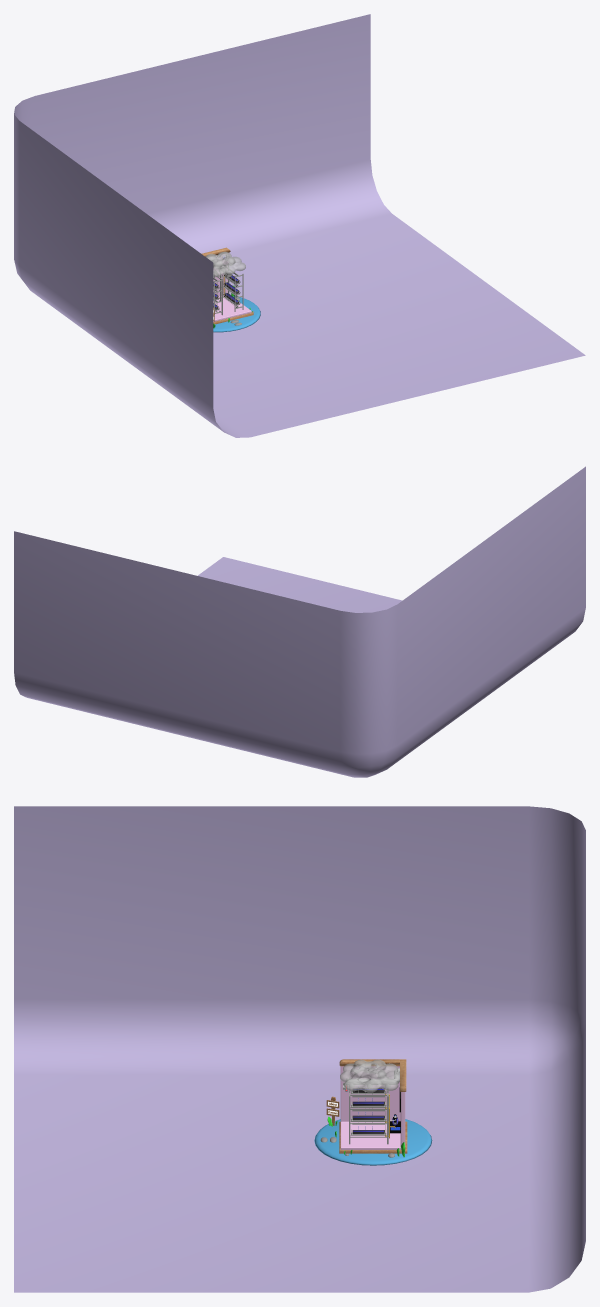
The model's file is FarmLab_WhiteRoom07a.glb.
The picture shows the model from 3 angles, top to bottom: view 1: azimuth 30°, elevation 25°; view 2: azimuth 150°, elevation 25°; view 3: azimuth 270°, elevation 25°; orthographic projection. The views are drawn at different scales.
Visible parts, largest first — view 1: BackGround, Room, Racks, Cloud, Grass; view 2: BackGround; view 3: BackGround, Room, Grass, Cloud, Racks, PlantBase.
Boxes of the visible parts, box(x1,y1,x2,y2) form: BackGround: box(14, 14, 585, 437); Room: box(201, 247, 253, 324); Racks: box(213, 263, 243, 316); Cloud: box(205, 251, 245, 277); Grass: box(213, 296, 260, 332); BackGround: box(14, 466, 585, 777); BackGround: box(14, 806, 585, 1292); Room: box(339, 1059, 407, 1153); Grass: box(314, 1119, 432, 1165); Cloud: box(340, 1059, 399, 1092); Racks: box(349, 1077, 388, 1144); PlantBase: box(352, 1088, 384, 1134).
Size of the model in its own units: 74.11 by 34.95 by 74.11.
27 materials, 2 textured.
